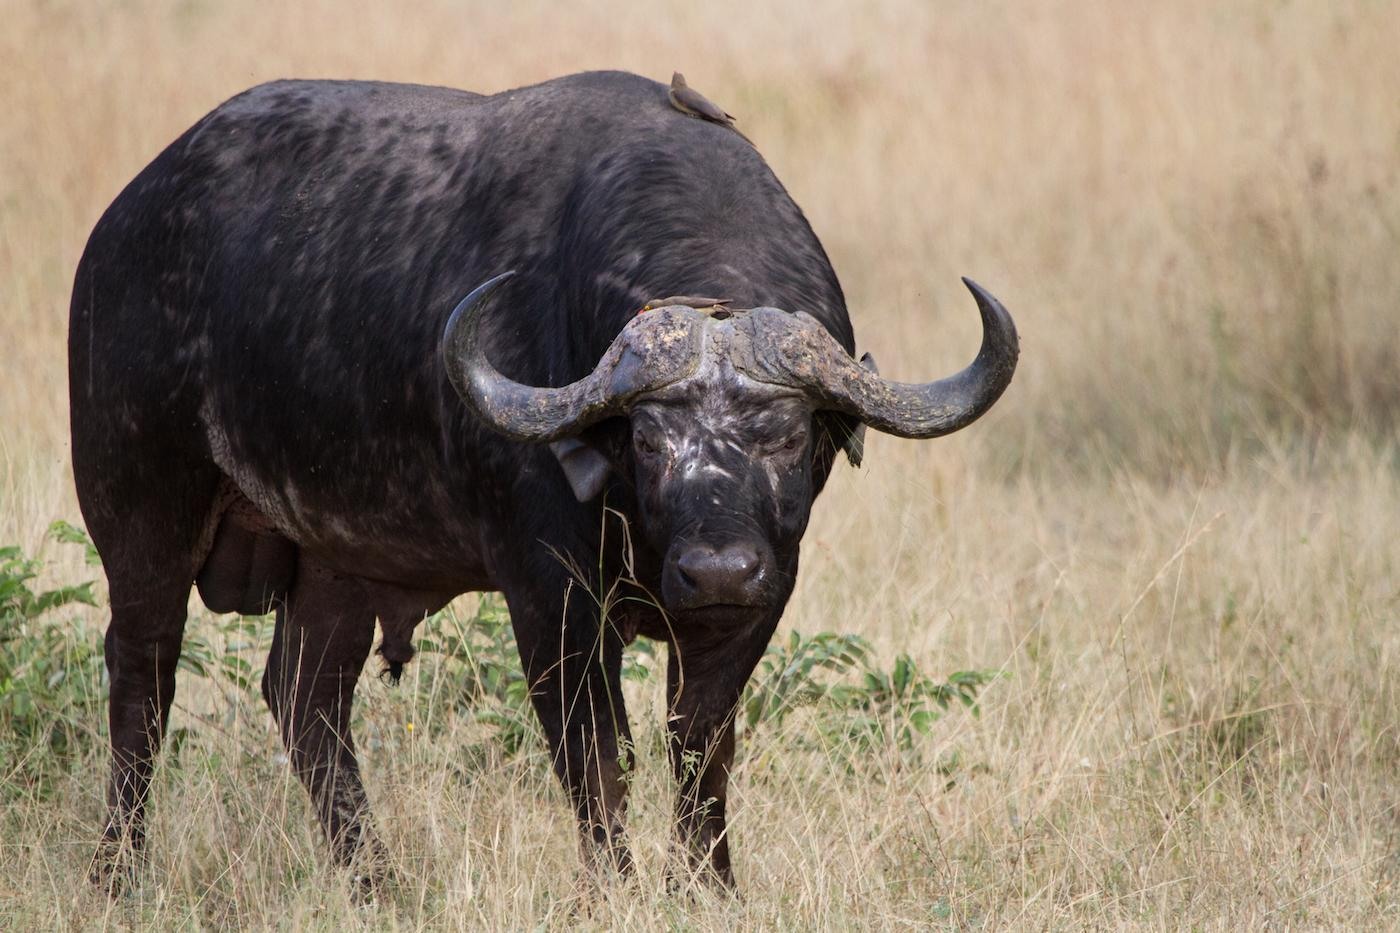Buffalo: (0, 3, 1070, 878)
